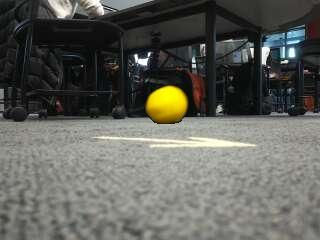lemon: (146, 86, 188, 123)
